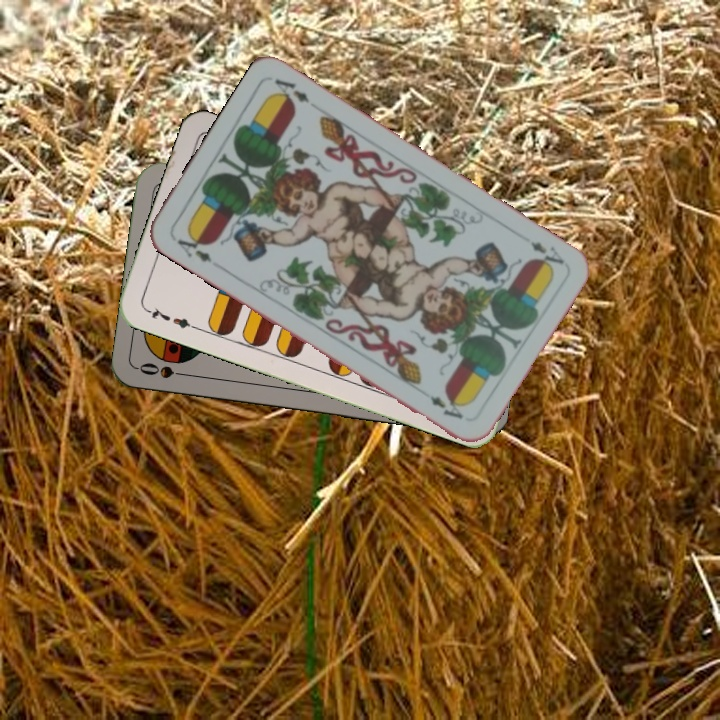E7: (141, 304, 199, 332)
EA: (173, 228, 215, 265), (526, 236, 567, 272)
SO: (135, 359, 194, 381)
